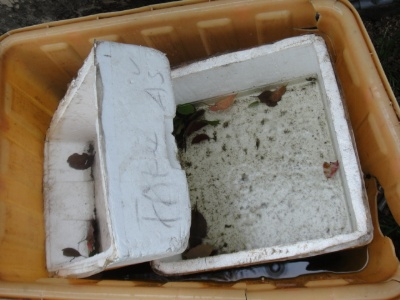box: (1, 2, 399, 300)
styrofoam: (151, 34, 376, 277), (40, 40, 190, 279)
